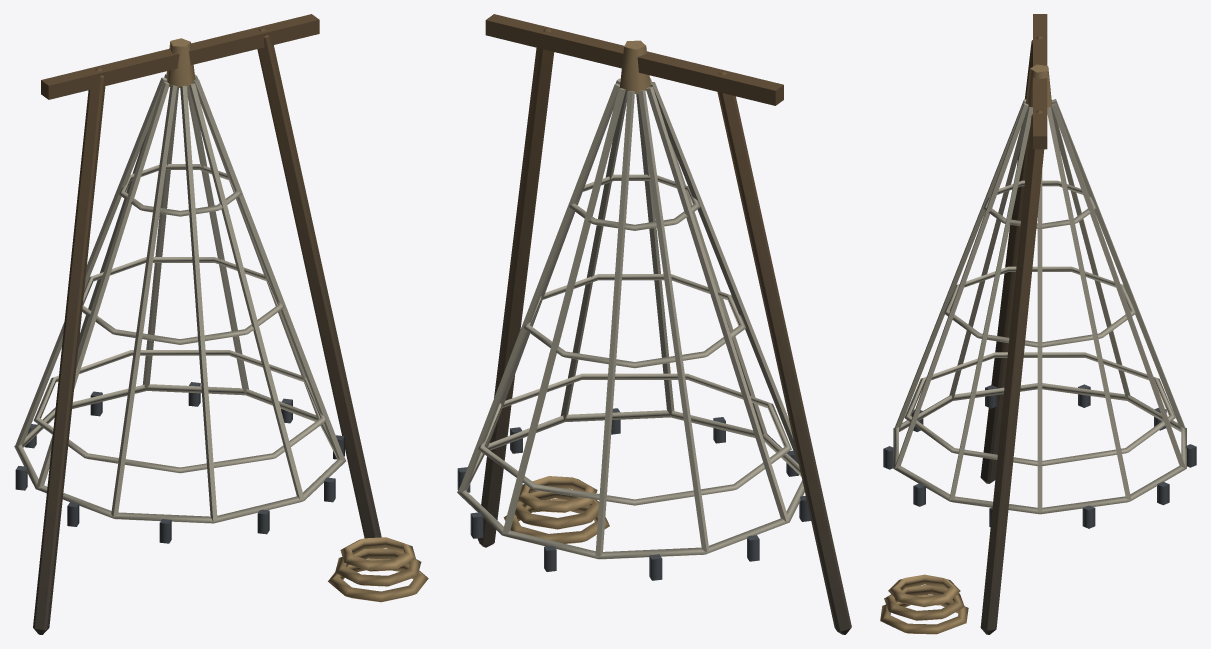
File: cast-net.glb
3 views of the same model, side by side, from view 1: azimuth 30°, elevation 25°; view 2: azimuth 150°, elevation 25°; view 3: azimuth 270°, elevation 25° (orthographic). The views are drawn at different scales.
Visible parts, largest first — view 1: cast_net; view 2: cast_net; view 3: cast_net.
Boxes of the visible parts, box(x1,y1,x2,y2) form: cast_net: box(14, 14, 428, 634); cast_net: box(457, 14, 851, 634); cast_net: box(880, 14, 1196, 634).
Size of the model in its own units: 1.3 by 1.87 by 1.09.
